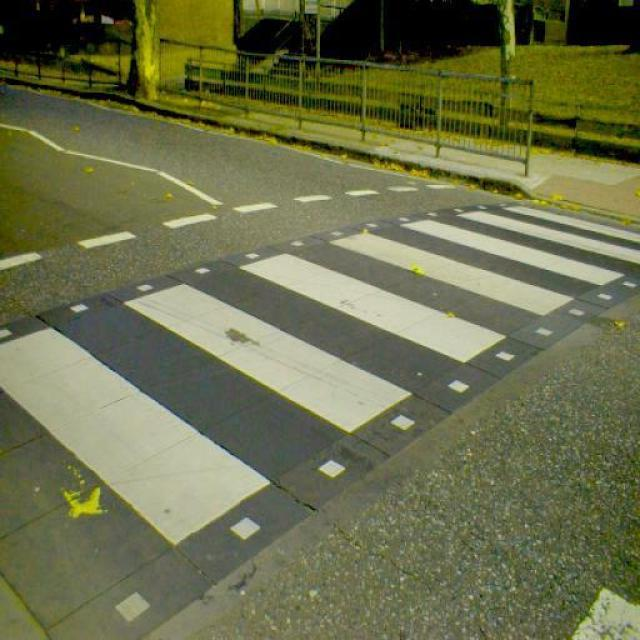crosswalk: (0, 201, 640, 550)
